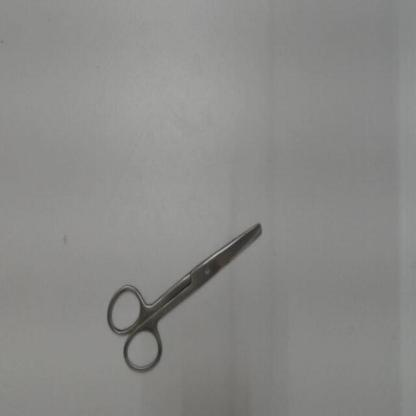Dressing Scissors: (95, 211, 275, 383)
